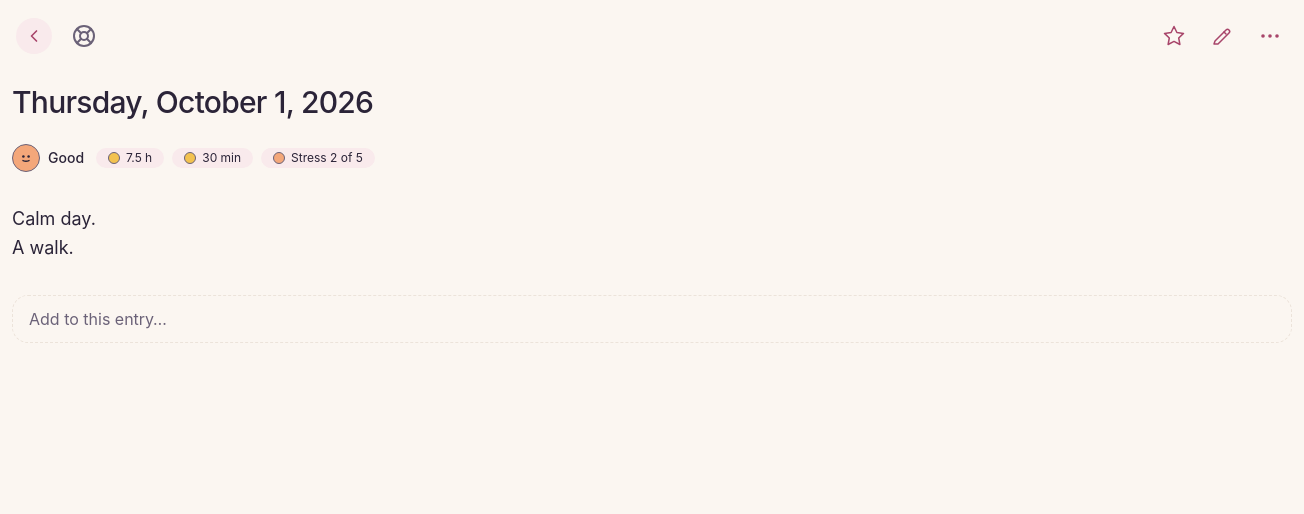
EntryScreen: the view › starring shows the card straight away, and it stays
Click the button with test id "entry-moment-toggle".
click(1174, 36)  # box [1152,14,1196,58]
Wait 10000 ms
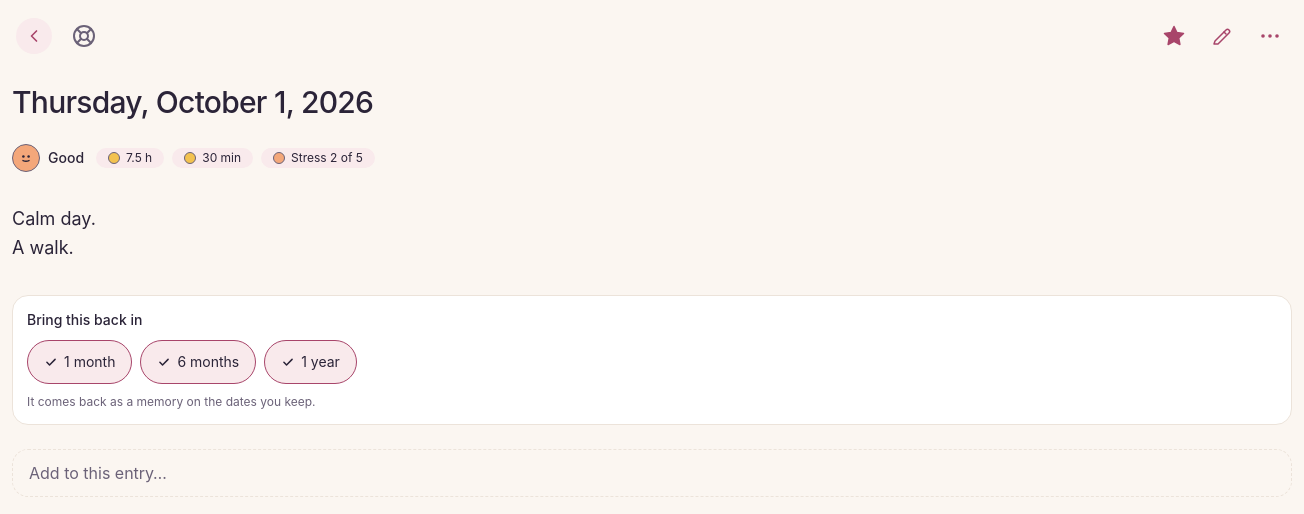
Expected: the element with test id "entry-recall" is shown, [12,294,1292,424]
